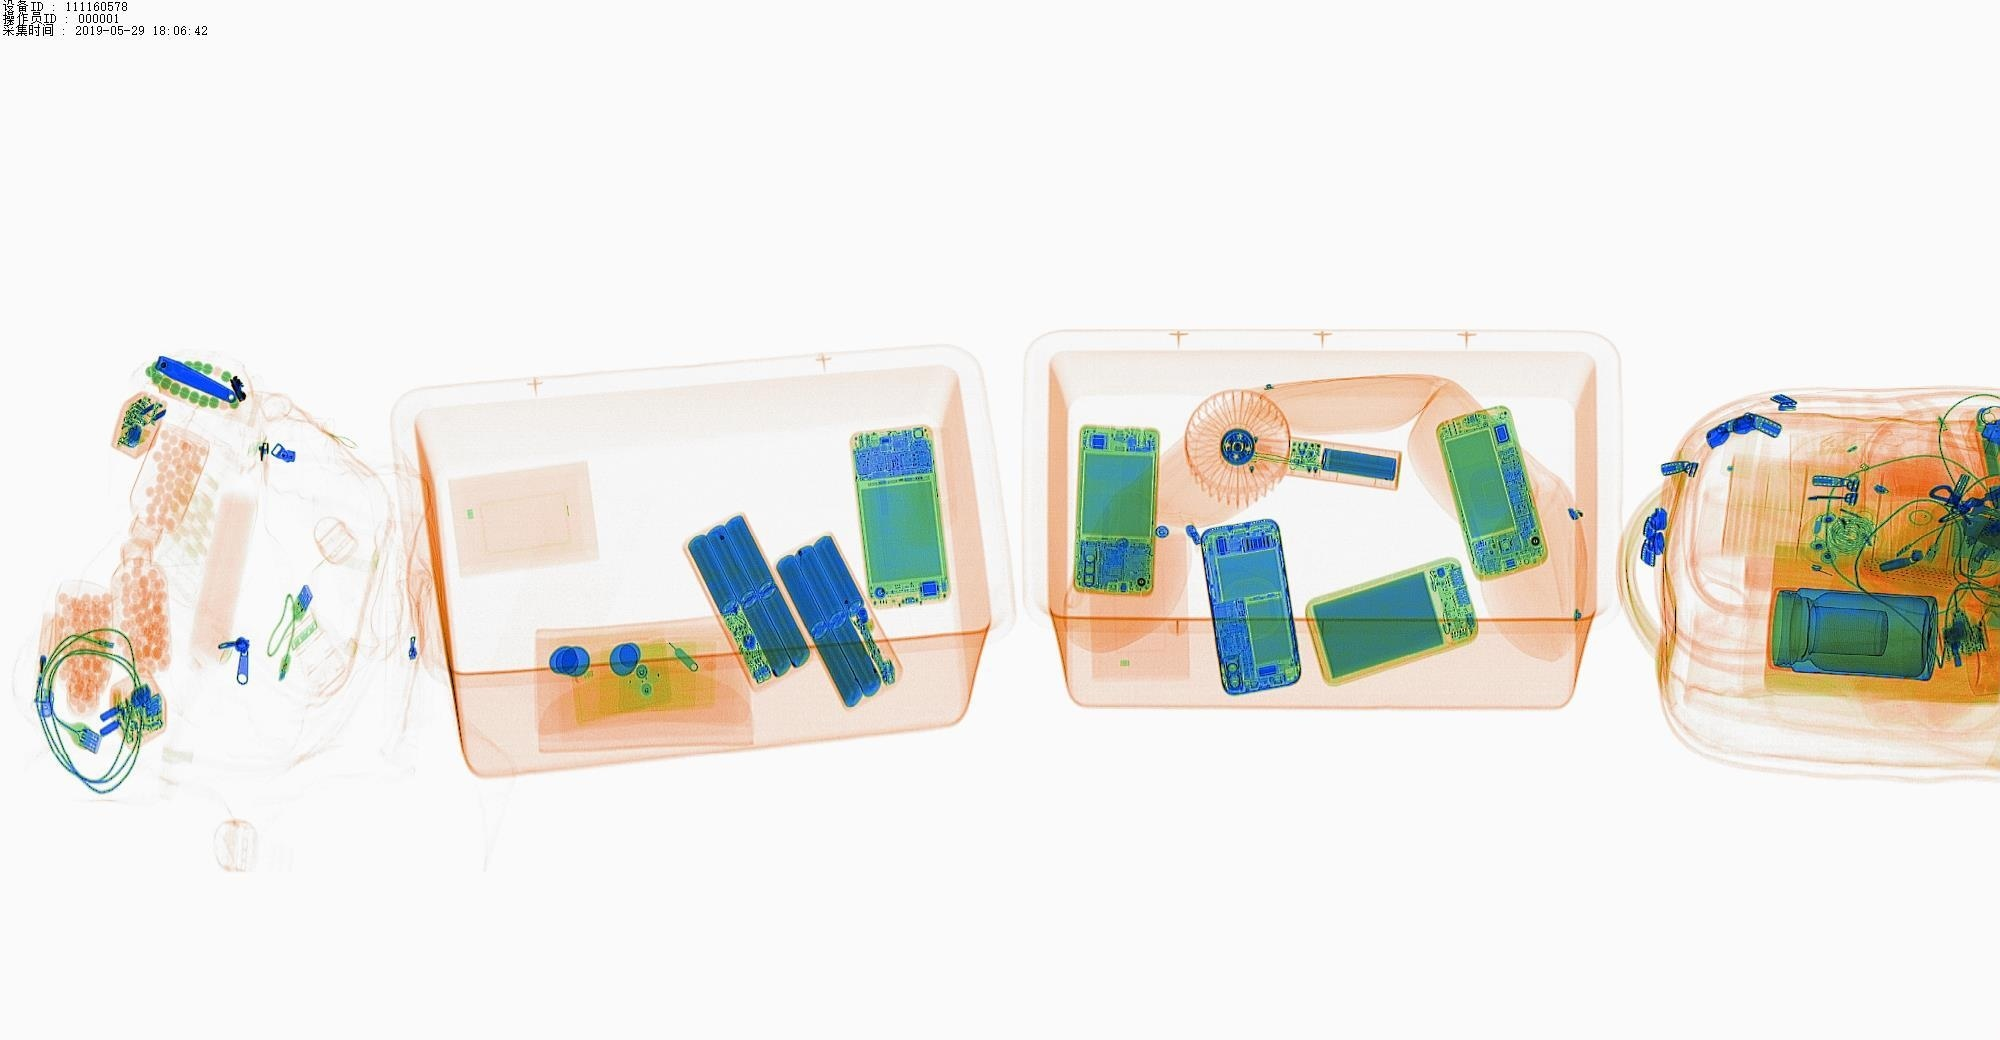NonmetallicFire: (22, 593, 79, 733)
